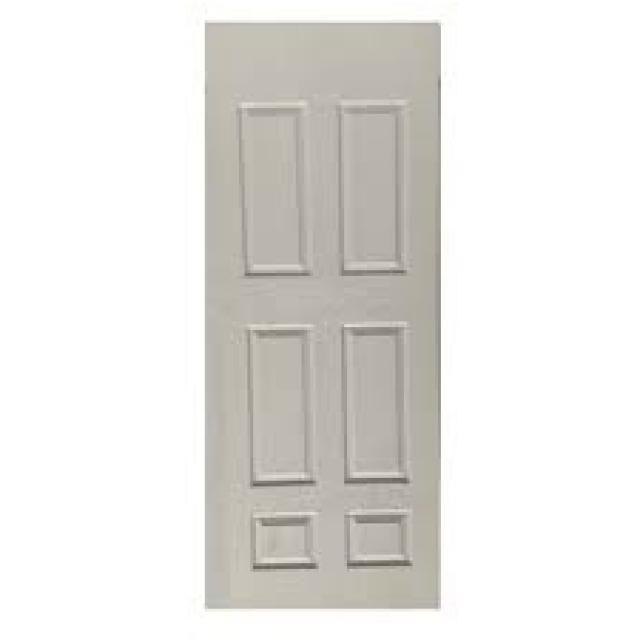door: (203, 22, 442, 612)
